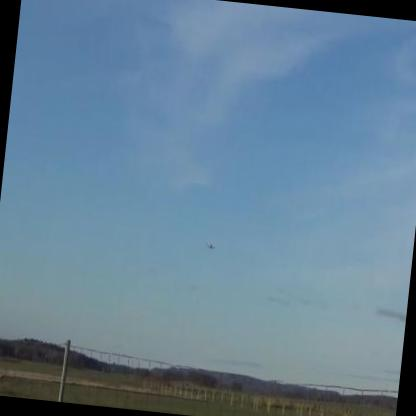plane: (207, 242, 216, 249)
